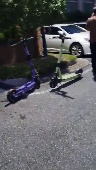beam: (6, 36, 44, 104)
gcooter: (50, 34, 85, 89)
